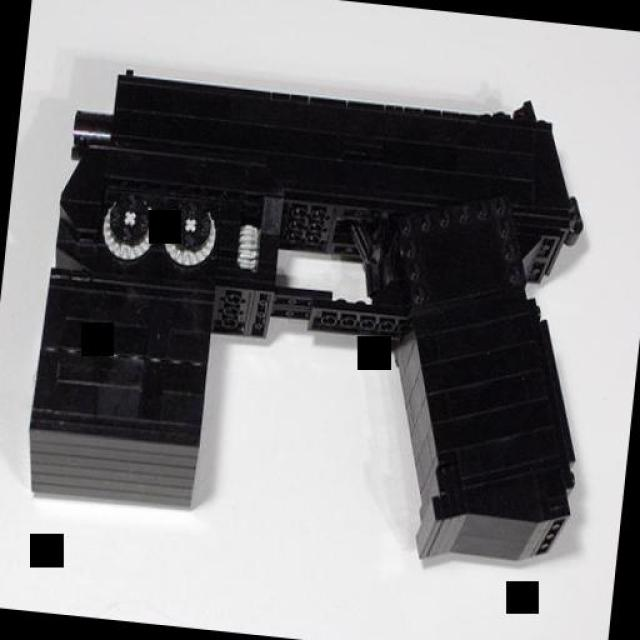gun: (16, 51, 629, 576)
